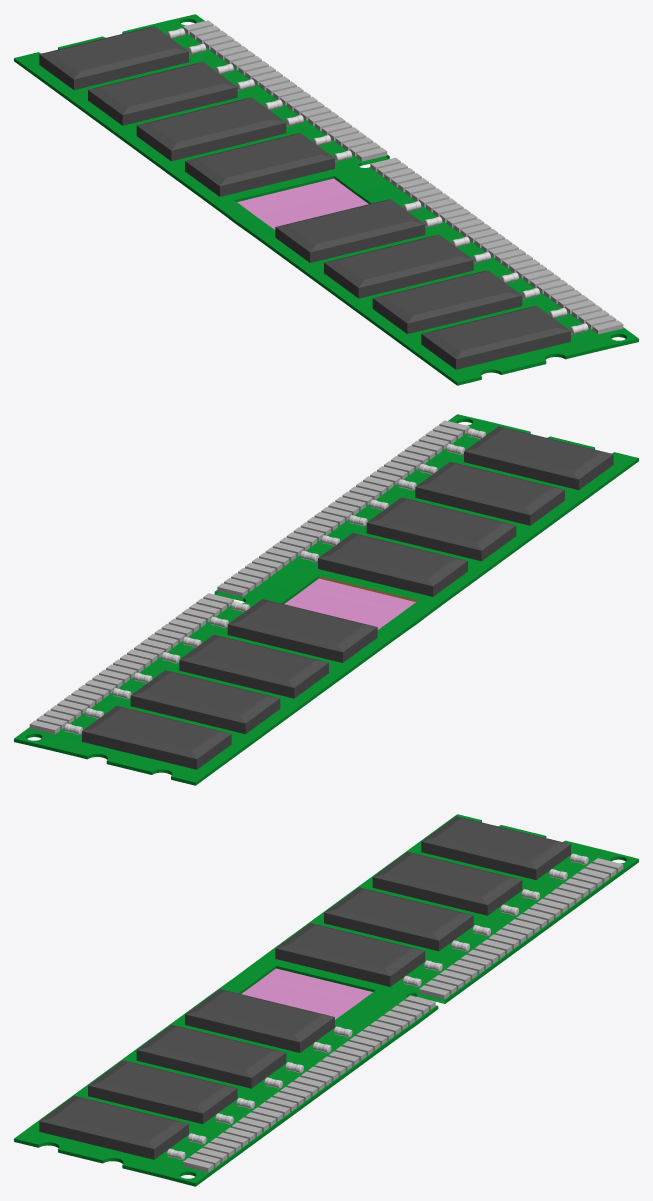
Rendered from MagentaRAMModel.fbx.
3 views of the same model, one above another, from view 1: azimuth 30°, elevation 25°; view 2: azimuth 150°, elevation 25°; view 3: azimuth 330°, elevation 25° (orthographic).
Visible parts, largest first — view 1: polySurface15; view 2: polySurface15; view 3: polySurface15.
Part boxes in pixels (bbox=[...]): polySurface15: bbox=[14, 14, 638, 385]; polySurface15: bbox=[14, 414, 638, 785]; polySurface15: bbox=[14, 814, 638, 1186].
Size of the model in its own units: 3.78 by 0.355 by 15.96.
